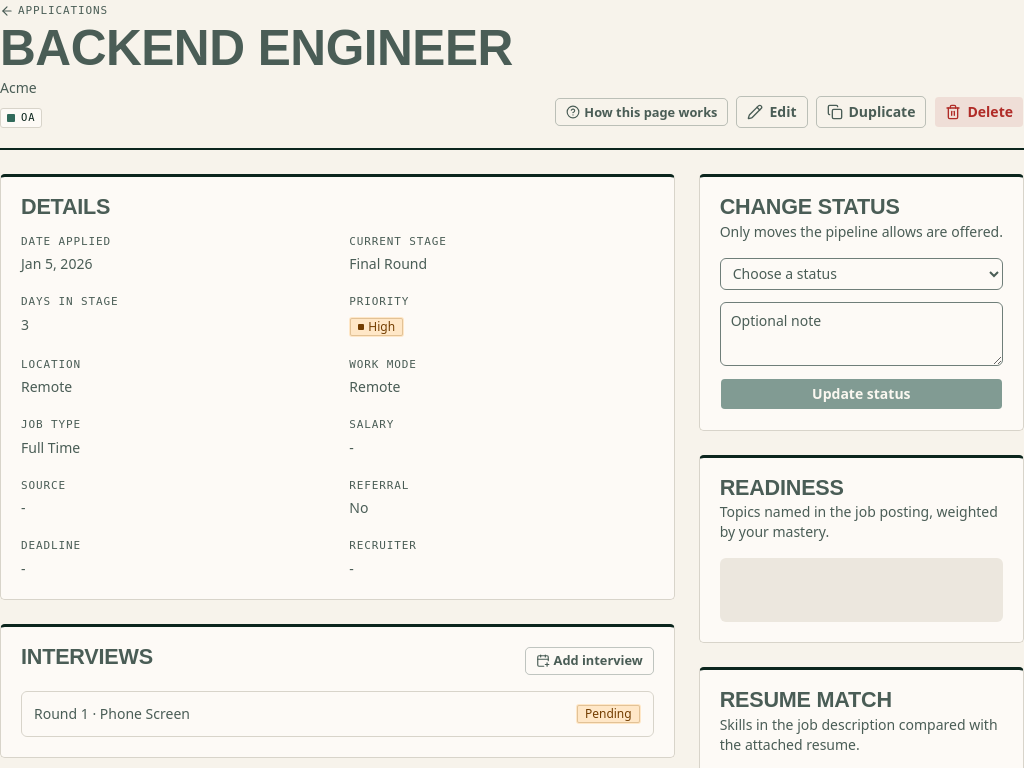
Test: ApplicationDetailPage status controls › opens the add interview dialog when moving to Interview
Select "Interview" in the dropdown named "New status" at [861, 274], box [720,258,1003,290]
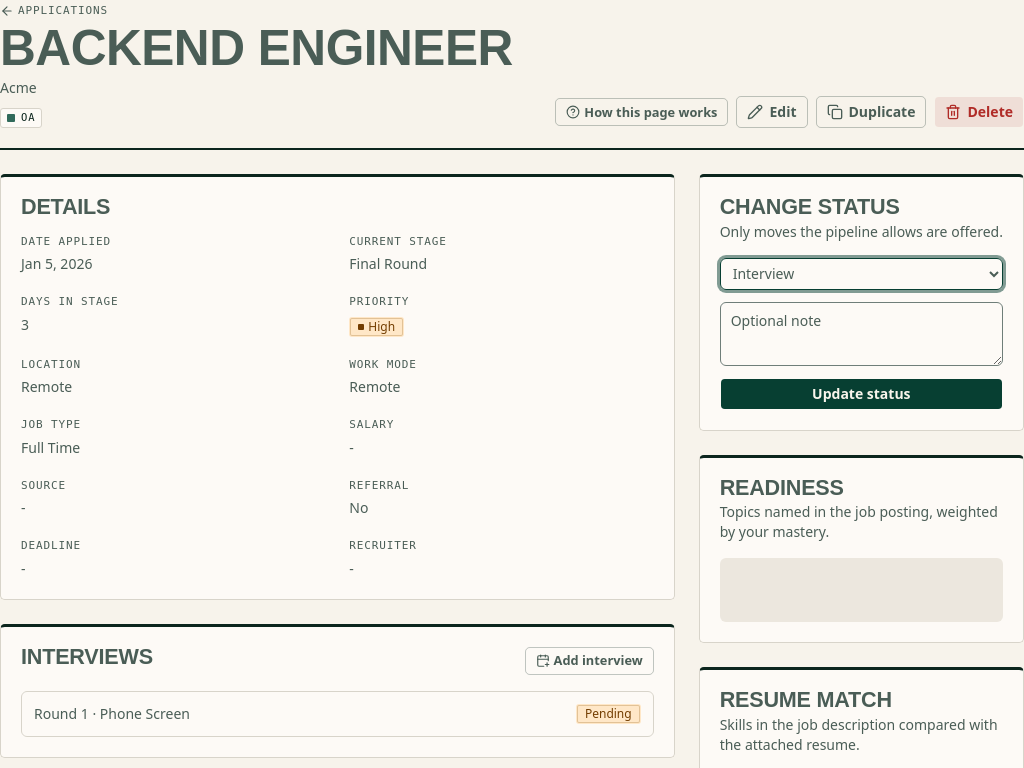
Click the button "Update status" at [861, 394], box [720,378,1003,410]
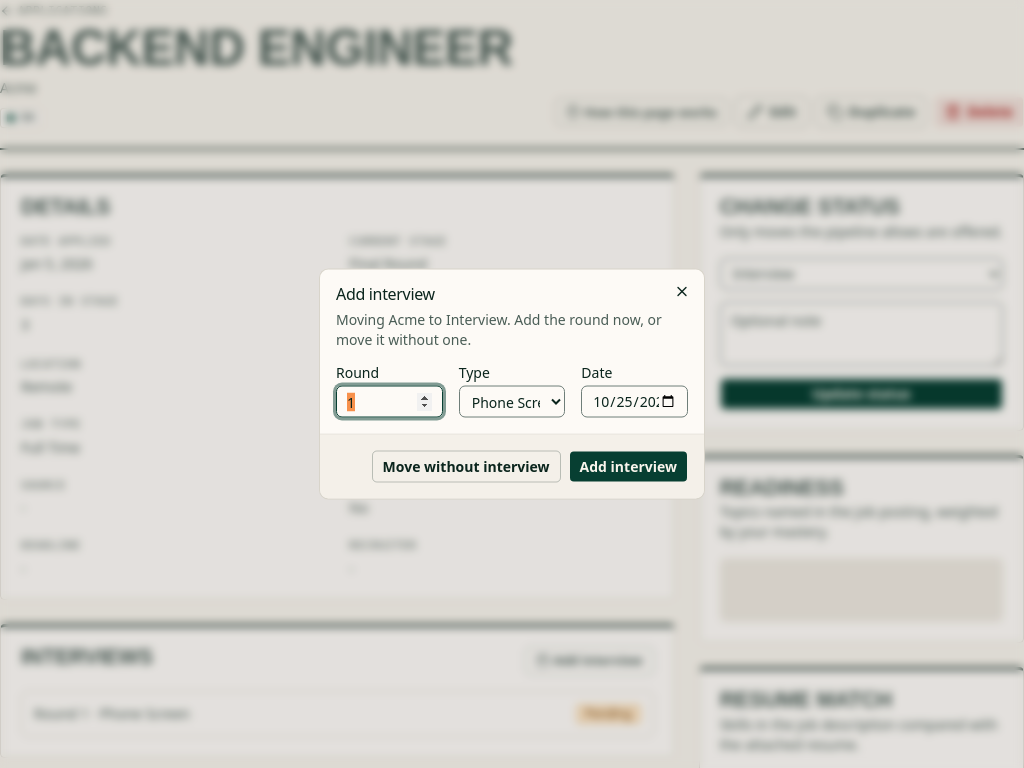
expect the dialog "Add interview" is shown: met, box [320,270,704,498]
